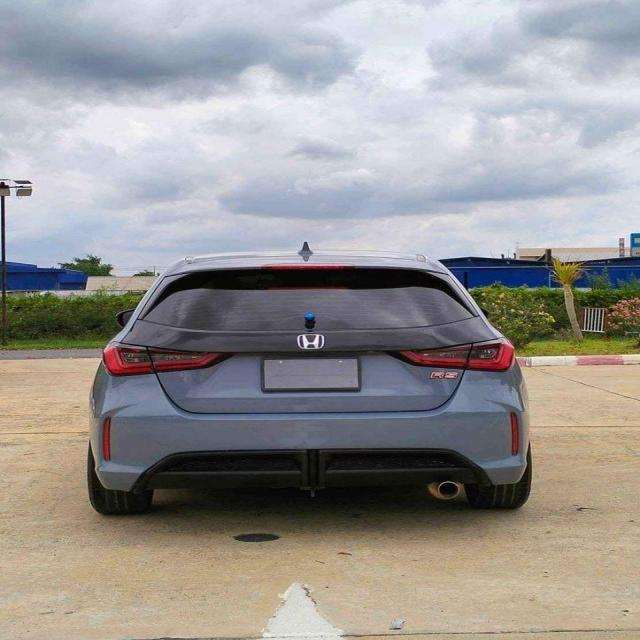Hatchback: (87, 245, 534, 519)
